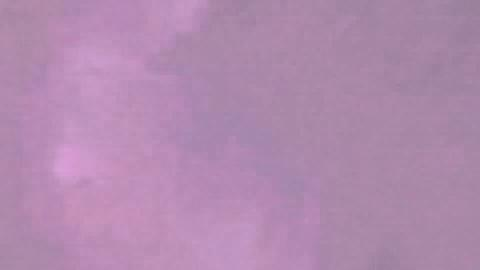tomato: (61, 43, 365, 268), (365, 125, 477, 268), (1, 142, 61, 268)
